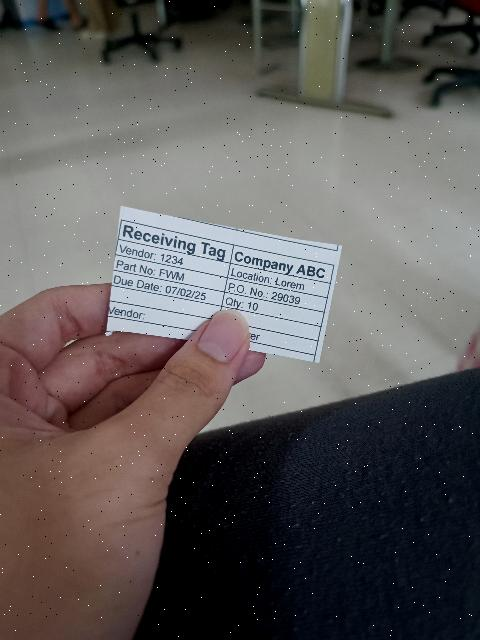PO no: (224, 278, 327, 312)
part no: (113, 255, 227, 293)
qty: (222, 293, 324, 326)
tags: (107, 207, 341, 362)
